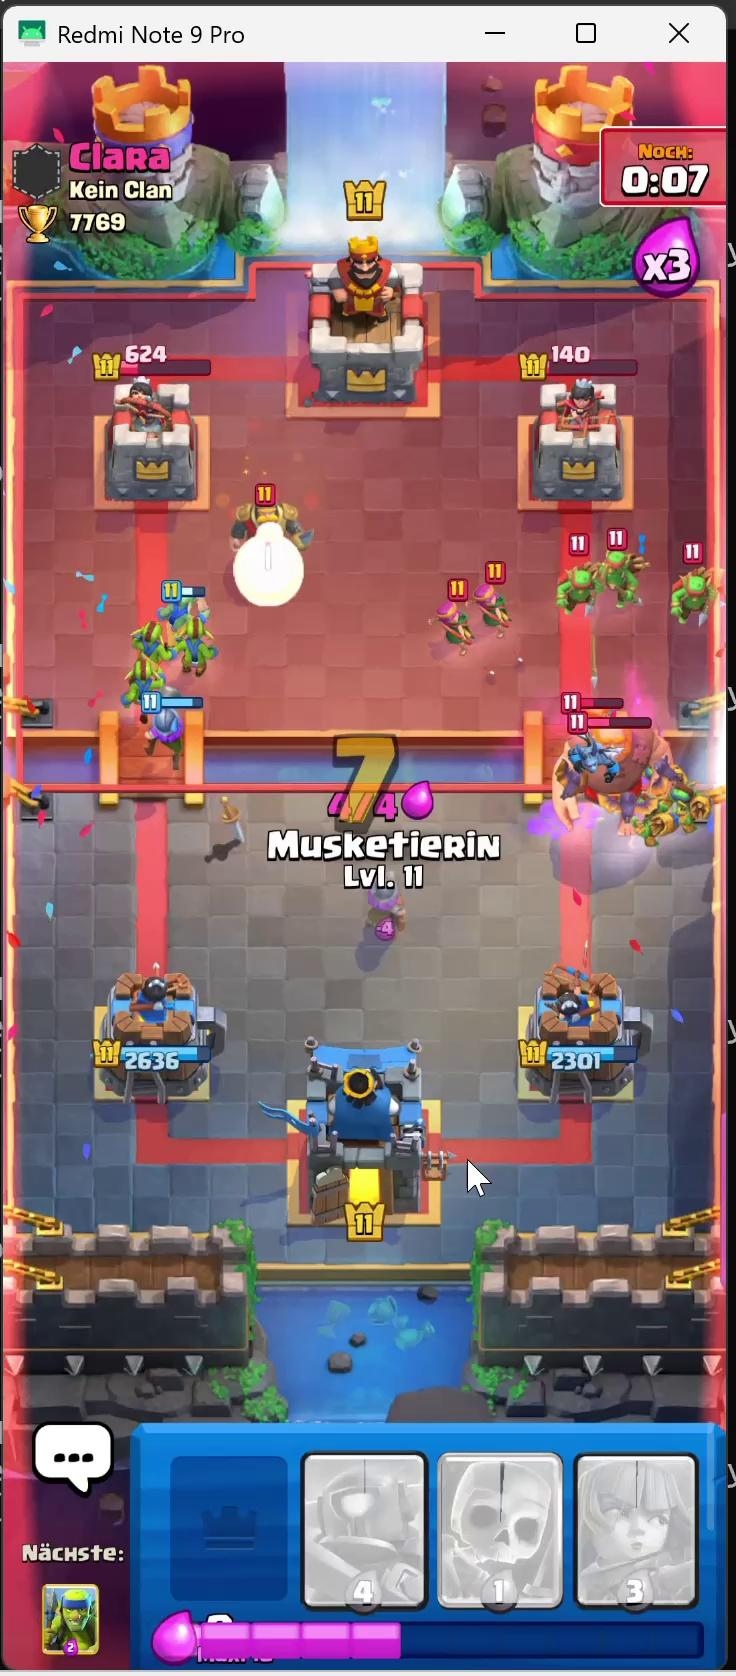archere: (474, 578, 513, 630), (434, 596, 474, 642)
bat: (652, 748, 678, 785), (559, 762, 576, 805), (618, 792, 637, 825)
chevalier: (232, 490, 302, 575)
gargouille: (561, 734, 616, 773)
geant: (550, 718, 653, 817)
gobelin: (176, 625, 224, 676), (137, 627, 181, 672), (126, 668, 165, 710), (166, 590, 190, 624)
gobelin_lances: (668, 785, 716, 839), (552, 555, 596, 612), (599, 545, 636, 608), (665, 567, 704, 624), (636, 804, 667, 857)
mousquetaire: (147, 700, 190, 766), (359, 881, 408, 937)
valkyrie: (575, 692, 611, 735)
